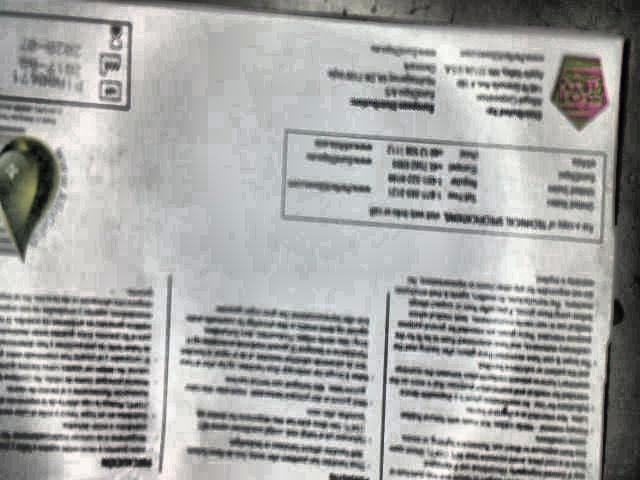Paper: (1, 0, 625, 480)
